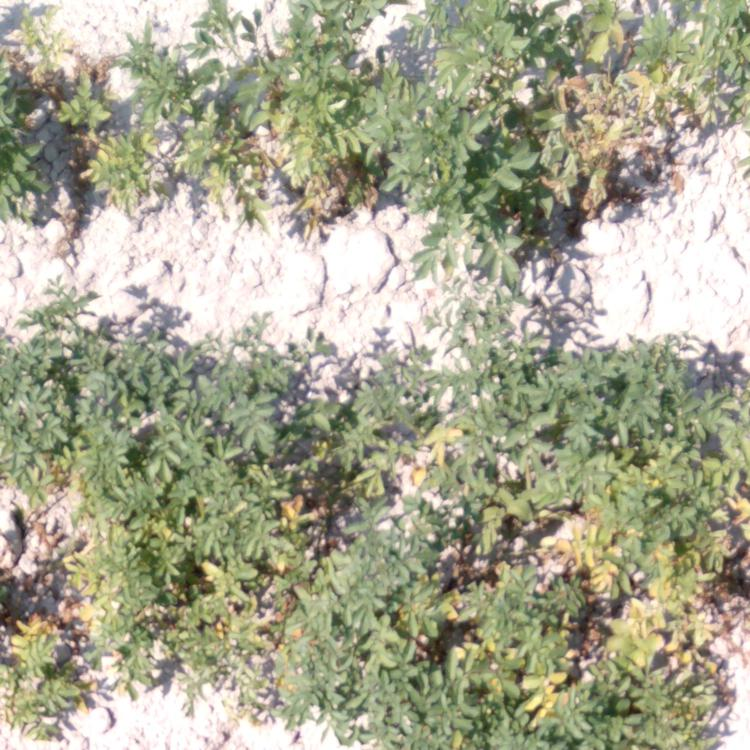healthy: (426, 1, 530, 339), (1, 301, 188, 454), (476, 339, 746, 435), (186, 316, 331, 453), (1, 63, 39, 224)
stressed: (335, 543, 590, 750), (249, 1, 421, 238), (36, 22, 248, 207), (120, 454, 271, 686), (526, 1, 658, 232), (333, 338, 473, 533), (590, 544, 718, 750), (484, 442, 750, 539), (275, 452, 334, 708), (1, 596, 117, 722), (14, 457, 115, 595), (656, 1, 750, 122)
